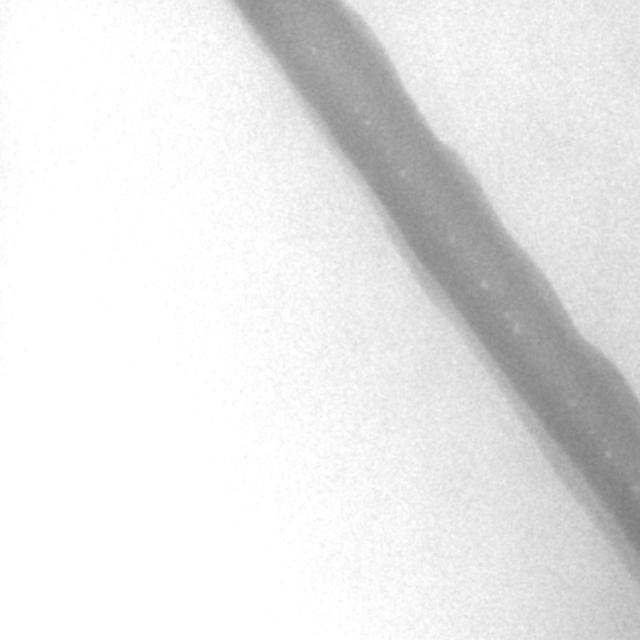air hole: (564, 396, 578, 411), (601, 447, 613, 461), (361, 116, 372, 129), (511, 321, 521, 334), (479, 278, 489, 289), (499, 306, 509, 317), (397, 167, 407, 177), (309, 43, 317, 55)
